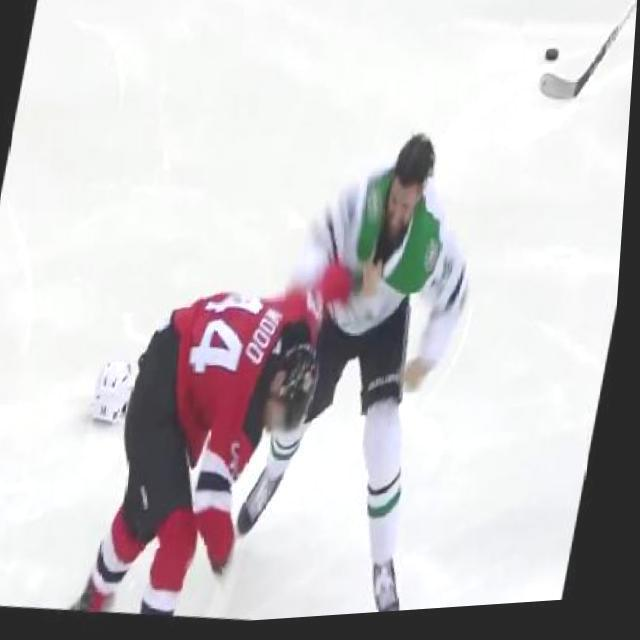fight: (96, 104, 501, 632)
